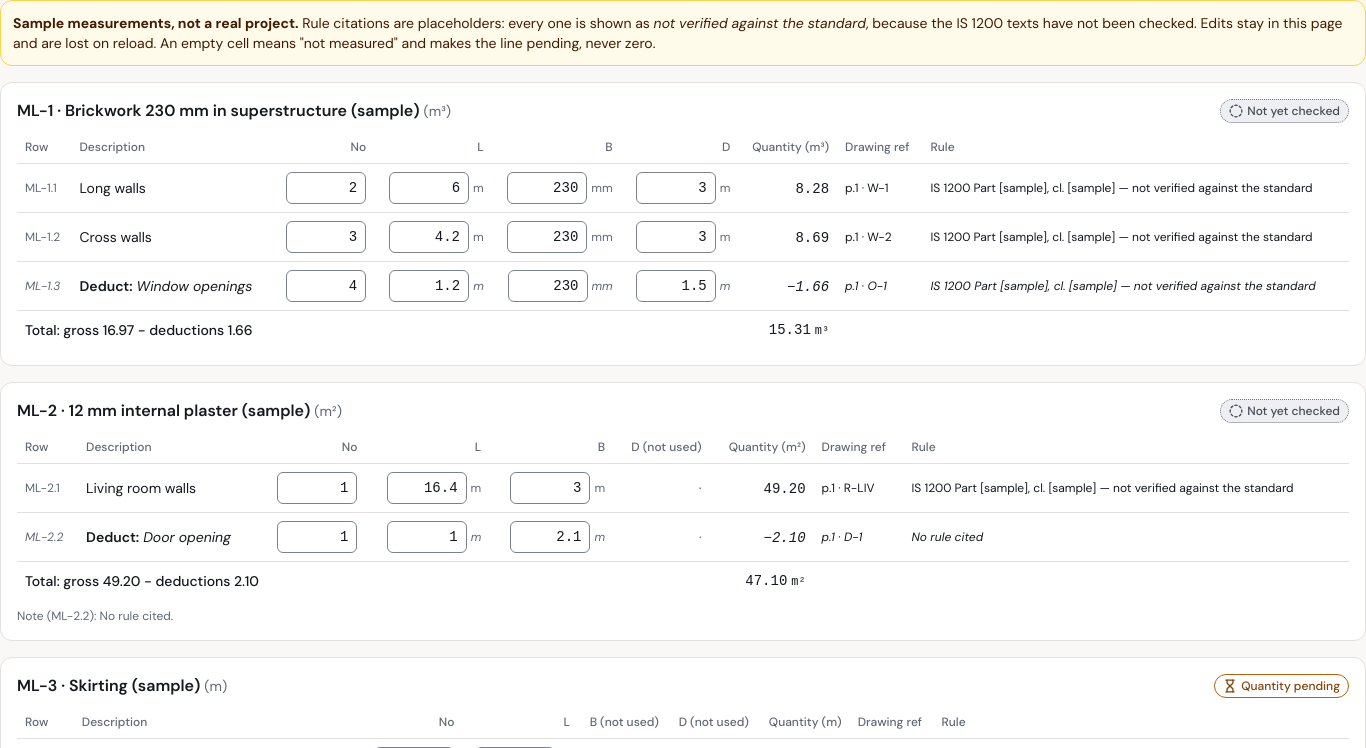
Test: MeasurementSheet — keyboard editing (local demo state only) › rejects text that is not a number and keeps the value
Replace the text in the field named "Long walls: L (m)" with "six" at (429, 188), box [389, 172, 469, 204]
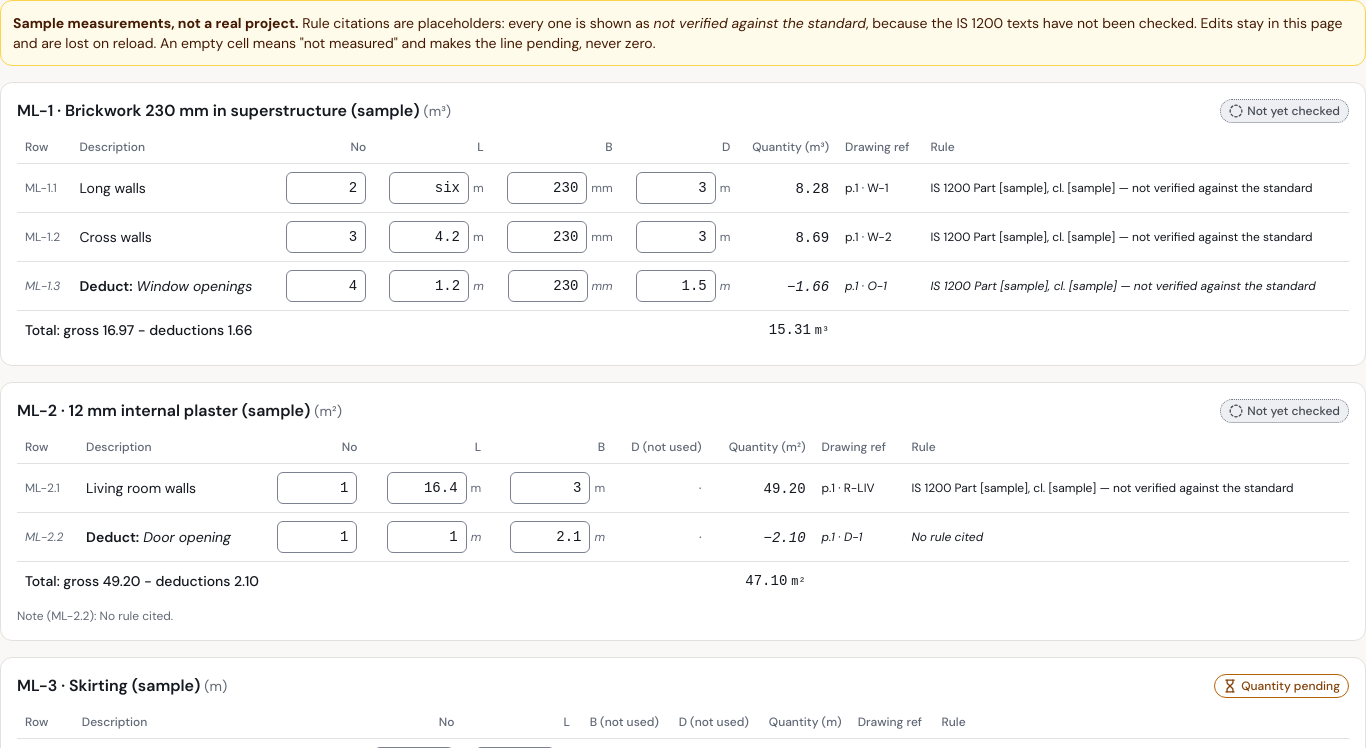
Press Enter in the field named "Long walls: L (m)", box [389, 172, 469, 204]
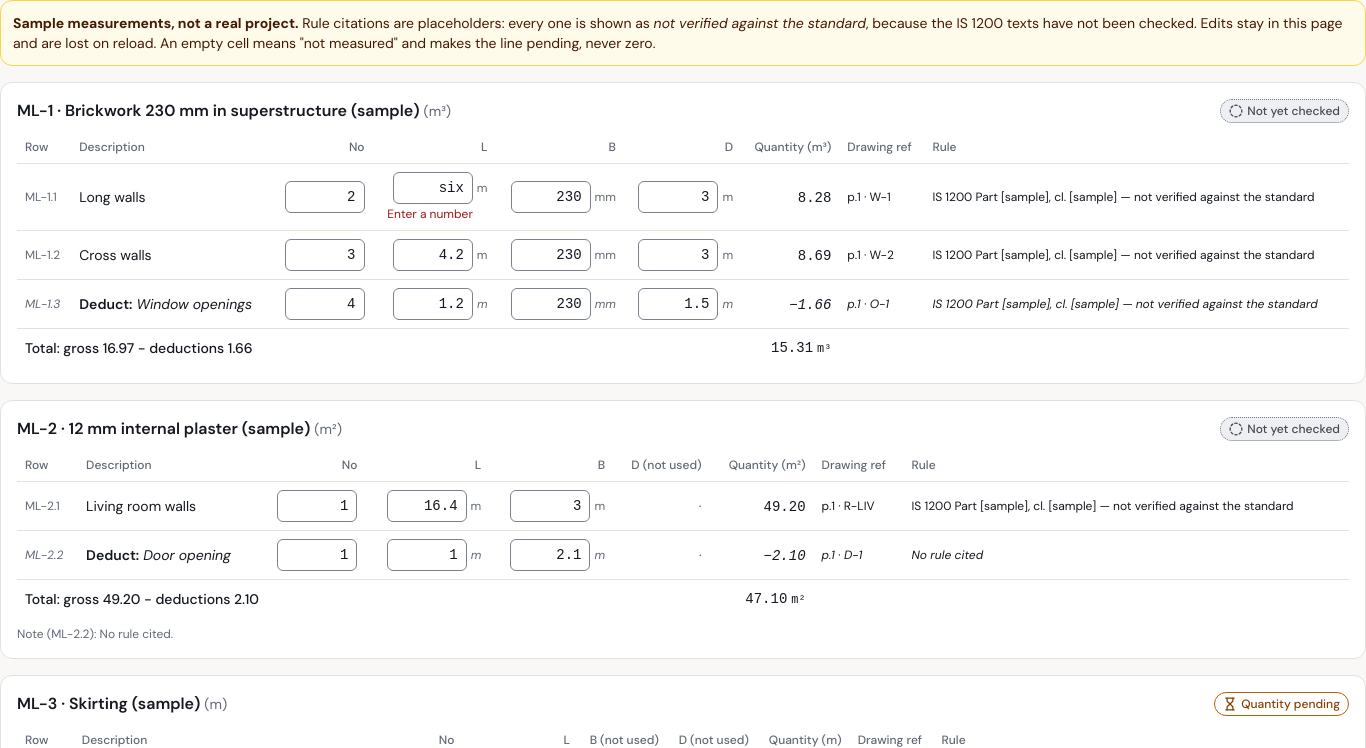
Check: the message reads "Enter a number", box [387, 206, 473, 222]
